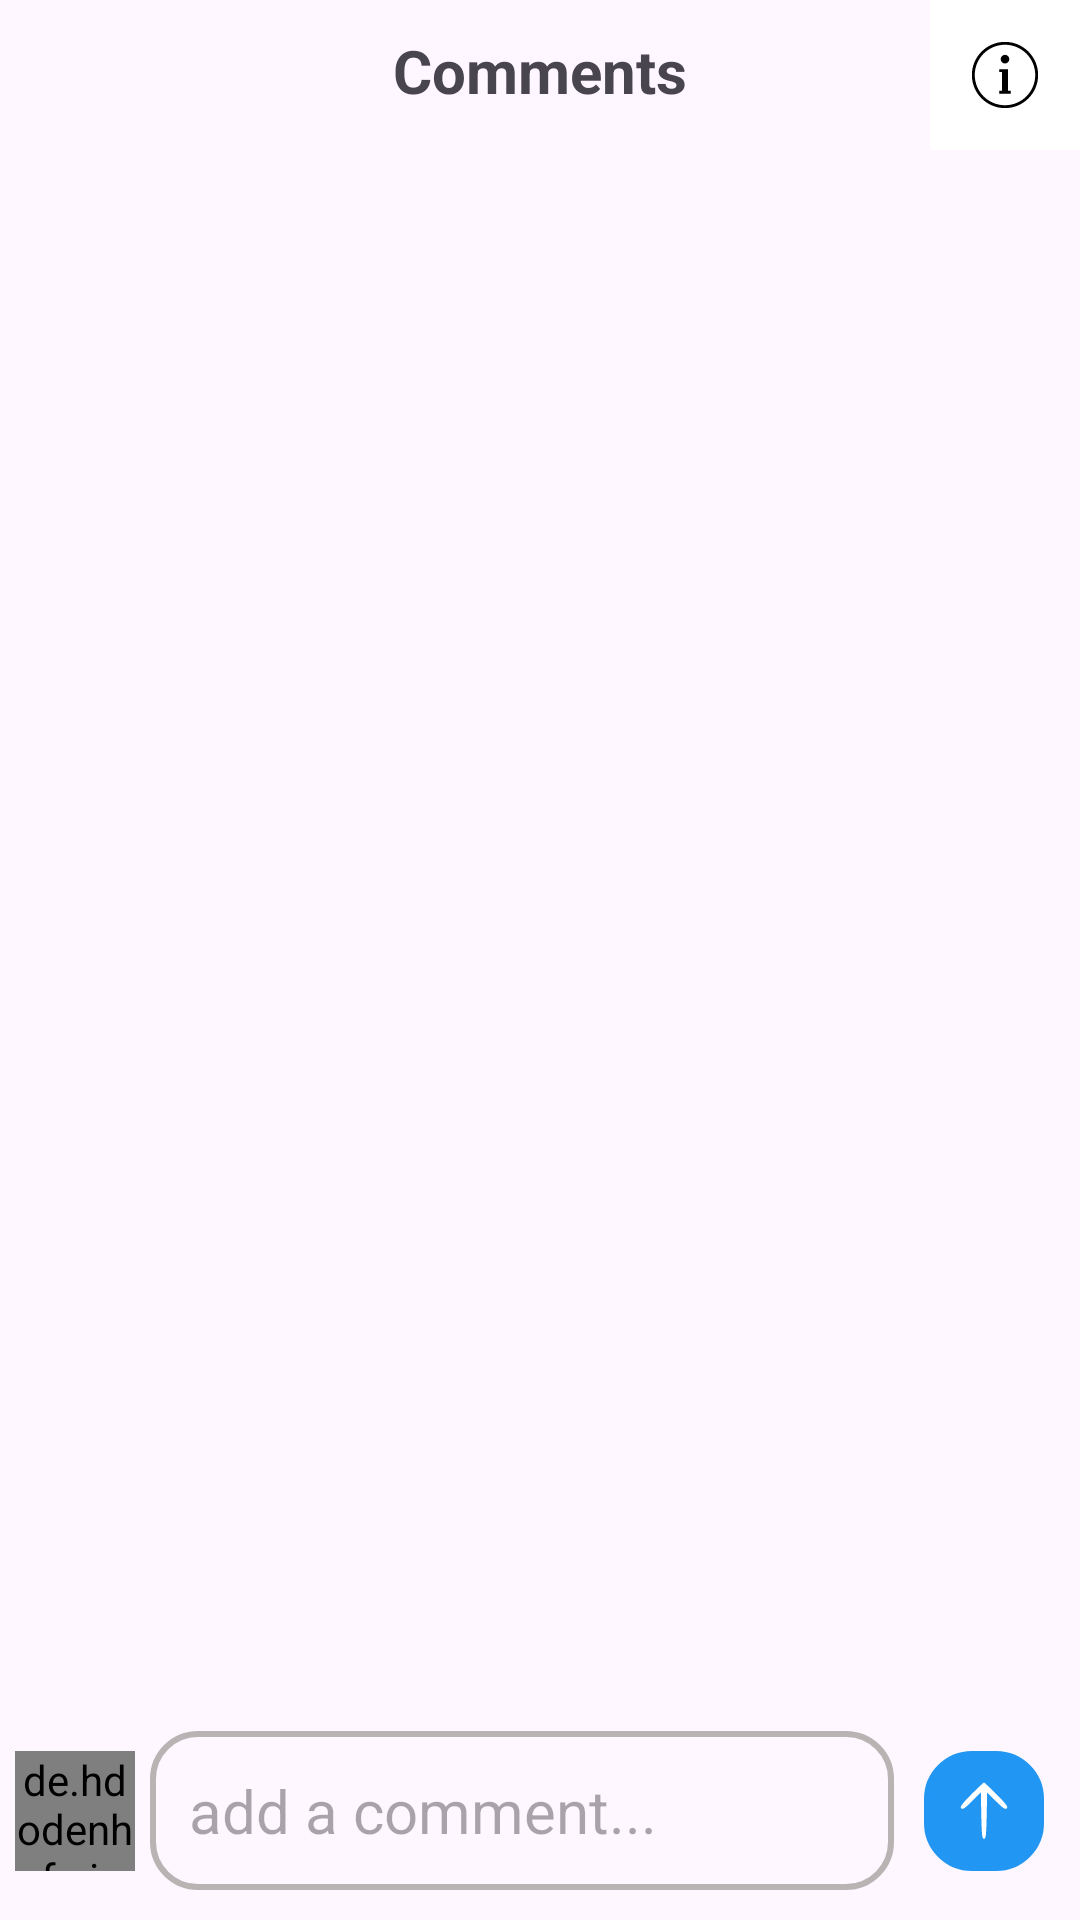

Icons on this 1080 x 1920 Android screen, each with its box as (x1, y1, x2, y2):
info: (972, 42, 1038, 108)
